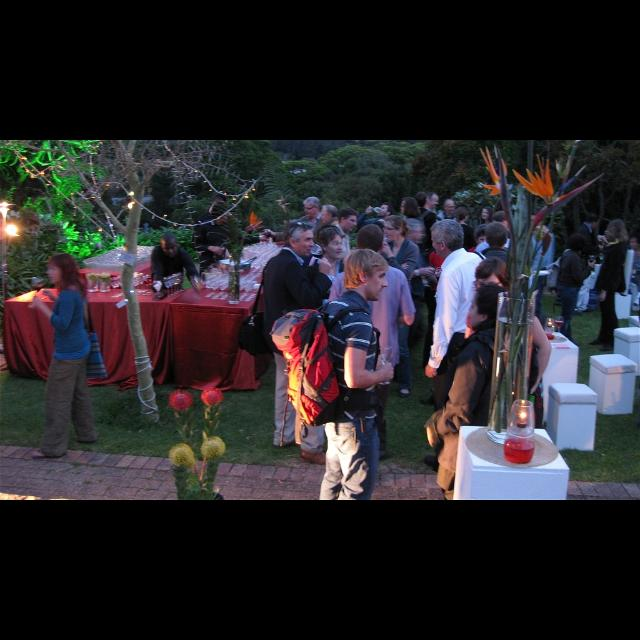Flower: (516, 152, 558, 200), (479, 146, 511, 194), (158, 388, 192, 420), (202, 384, 222, 406), (250, 212, 262, 228)
